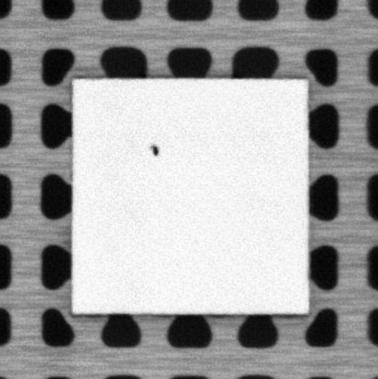DIE_INK: (147, 141, 161, 158)
